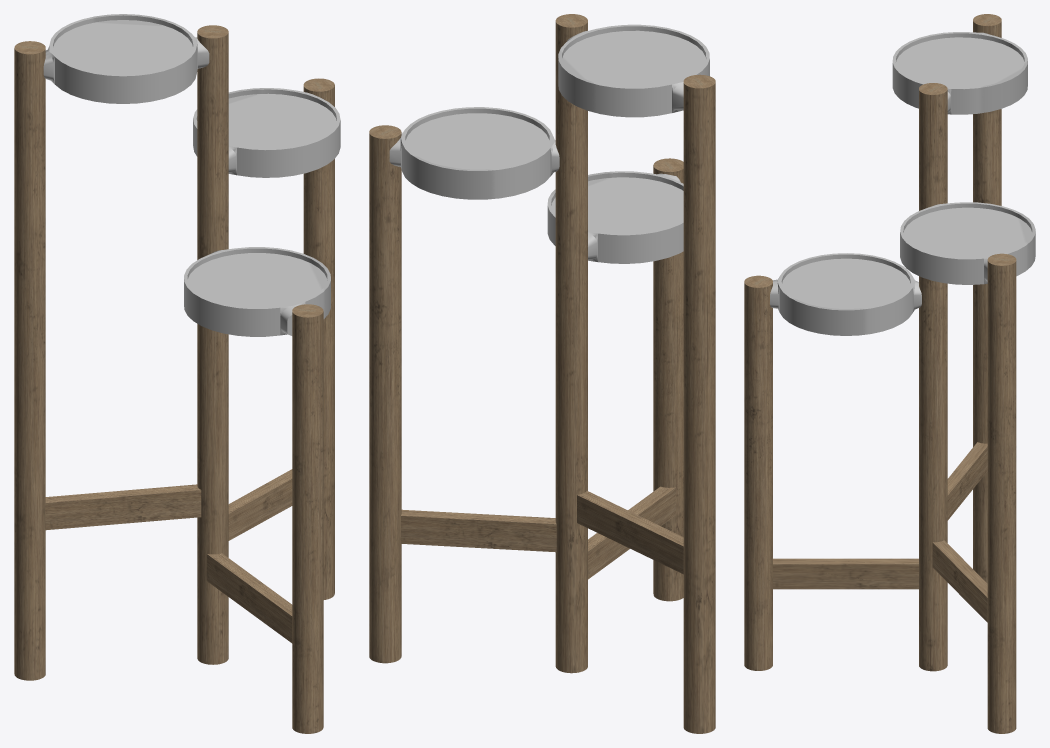
The model's file is flowers_stand_ikea.glb.
3 renders of one model, left to right at view 1: azimuth 30°, elevation 25°; view 2: azimuth 150°, elevation 25°; view 3: azimuth 270°, elevation 25°, orthographic. The views are drawn at different scales.
Visible parts, largest first — view 1: Cylinder.003, Cylinder.004, Cylinder.006, Cylinder.001, Cylinder.005, Cylinder.007, Cylinder.002, Cube.002, Cube, Cube.001; view 2: Cylinder.003, Cylinder.004, Cylinder.002, Cylinder.007, Cylinder.001, Cylinder.006, Cylinder.005, Cube.001, Cube.002, Cube; view 3: Cylinder.002, Cylinder.004, Cylinder.006, Cylinder.005, Cylinder.007, Cylinder.001, Cylinder.003, Cube, Cube.001, Cube.002.
Part boxes in pixels (x1,y1,x2,y2): Cylinder.003: (14, 41, 45, 680); Cylinder.004: (197, 25, 228, 664); Cylinder.006: (292, 304, 323, 733); Cylinder.001: (43, 14, 209, 103); Cylinder.005: (184, 247, 330, 336); Cylinder.007: (193, 88, 340, 177); Cylinder.002: (303, 78, 334, 599); Cube.002: (45, 484, 201, 530); Cube: (206, 553, 292, 643); Cube.001: (228, 469, 292, 540); Cylinder.003: (683, 74, 715, 733); Cylinder.004: (555, 14, 587, 673); Cylinder.002: (369, 125, 401, 663); Cylinder.007: (389, 107, 559, 199); Cylinder.001: (558, 24, 709, 117); Cylinder.006: (653, 158, 683, 601); Cylinder.005: (547, 171, 683, 263); Cube.001: (401, 509, 556, 552); Cube.002: (577, 491, 683, 574); Cube: (588, 486, 675, 579); Cylinder.002: (987, 253, 1016, 733); Cylinder.004: (919, 83, 947, 671); Cylinder.006: (744, 275, 772, 670); Cylinder.005: (770, 253, 921, 335); Cylinder.007: (900, 202, 1035, 284); Cylinder.001: (892, 32, 1027, 114); Cylinder.003: (973, 14, 1001, 583); Cube: (773, 558, 918, 589); Cube.001: (932, 540, 987, 622); Cube.002: (947, 442, 987, 520).
Size of the model in its own units: 0.6748 by 1.25 by 0.5711.
Materials: 3 (3 with a texture image).
